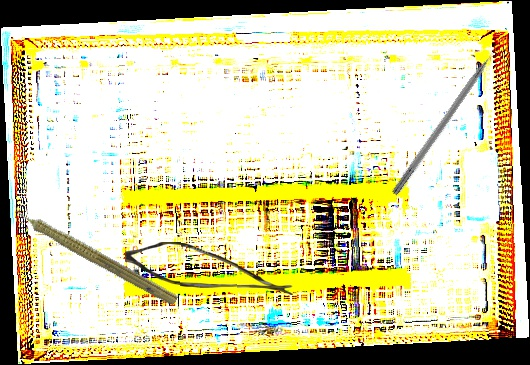Handpiece: (0, 195, 183, 309)
Micro Scissor: (124, 241, 294, 296)
Pusher: (390, 34, 510, 198)
